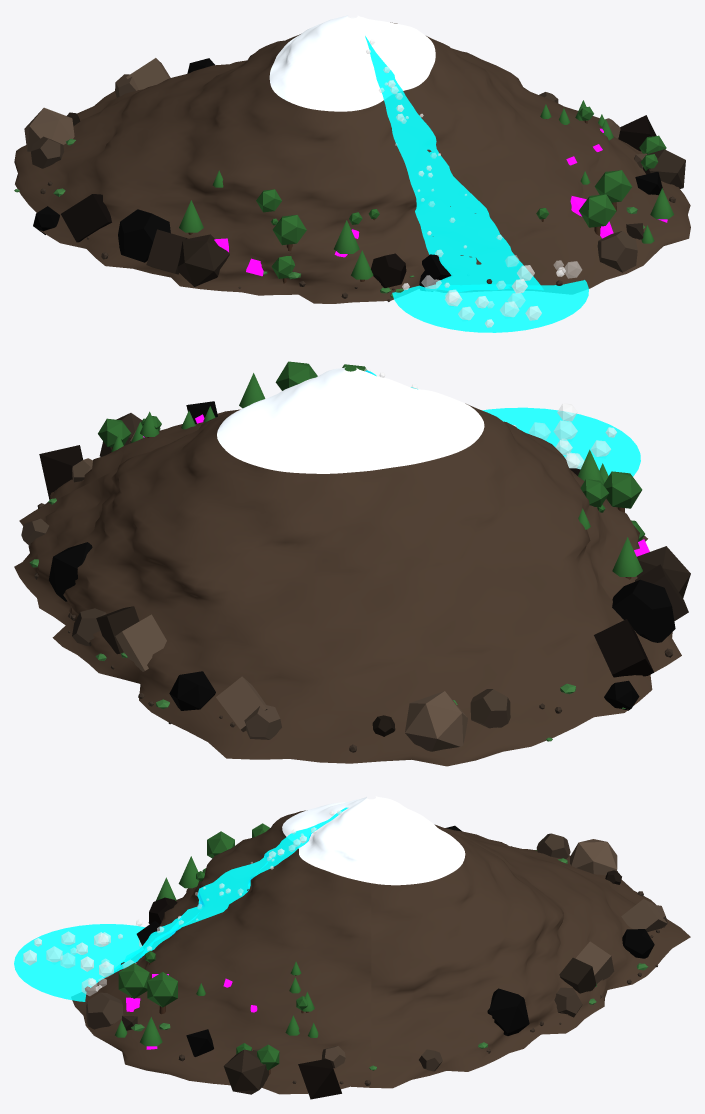
Rendered from montana_1.glb.
The picture shows the model from 3 angles, top to bottom: view 1: azimuth 30°, elevation 25°; view 2: azimuth 150°, elevation 25°; view 3: azimuth 270°, elevation 25°; orthographic projection. The views are drawn at different scales.
Visible parts, largest first — view 1: tierra, rio, cima, poza_agua, copa (×4), roca_2, roca_3, roca_6, roca_9, roca_17, roca_4, roca_12 (+6 smaller); view 2: tierra, cima, poza_agua, copa (×4), roca_9, roca_3, roca_6, roca_19, roca_11, roca_22, roca_14, roca_7 (+7 smaller); view 3: tierra, cima, poza_agua, rio, copa (×3), roca_12, roca_22, roca_9, roca_7, roca_17, roca_11, roca_18 (+5 smaller).
Part boxes in pixels (box(x1,y1,x2,y2)): tierra: box(14, 22, 690, 303); rio: box(365, 36, 541, 286); cima: box(269, 15, 435, 111); poza_agua: box(392, 280, 588, 332); copa (×4): box(272, 170, 631, 253); roca_2: box(178, 234, 229, 286); roca_3: box(118, 209, 170, 262); roca_6: box(61, 194, 111, 242); roca_9: box(24, 107, 74, 151); roca_17: box(597, 231, 637, 272); roca_4: box(146, 229, 187, 274); roca_12: box(643, 149, 685, 188); tierra: box(14, 403, 681, 766); cima: box(217, 367, 484, 473); poza_agua: box(482, 407, 640, 476); copa (×4): box(98, 361, 642, 576); roca_9: box(405, 691, 467, 751); roca_3: box(612, 579, 675, 642); roca_6: box(594, 619, 653, 677); roca_19: box(115, 614, 166, 671); roca_11: box(216, 676, 267, 731); roca_22: box(49, 542, 92, 601); roca_14: box(169, 671, 215, 710); roca_7: box(39, 445, 82, 499); tierra: box(72, 810, 690, 1094); cima: box(282, 796, 465, 885); poza_agua: box(14, 924, 144, 1001); rio: box(97, 807, 348, 981); copa (×3): box(118, 831, 234, 1007); roca_12: box(223, 1049, 268, 1094); roca_22: box(487, 988, 529, 1035); roca_9: box(570, 839, 617, 875); roca_7: box(298, 1059, 341, 1099); roca_17: box(86, 992, 123, 1029); roca_11: box(621, 899, 667, 932); roca_18: box(559, 957, 596, 993).
Size of the model in its own units: 32.46 by 10.77 by 35.99.
